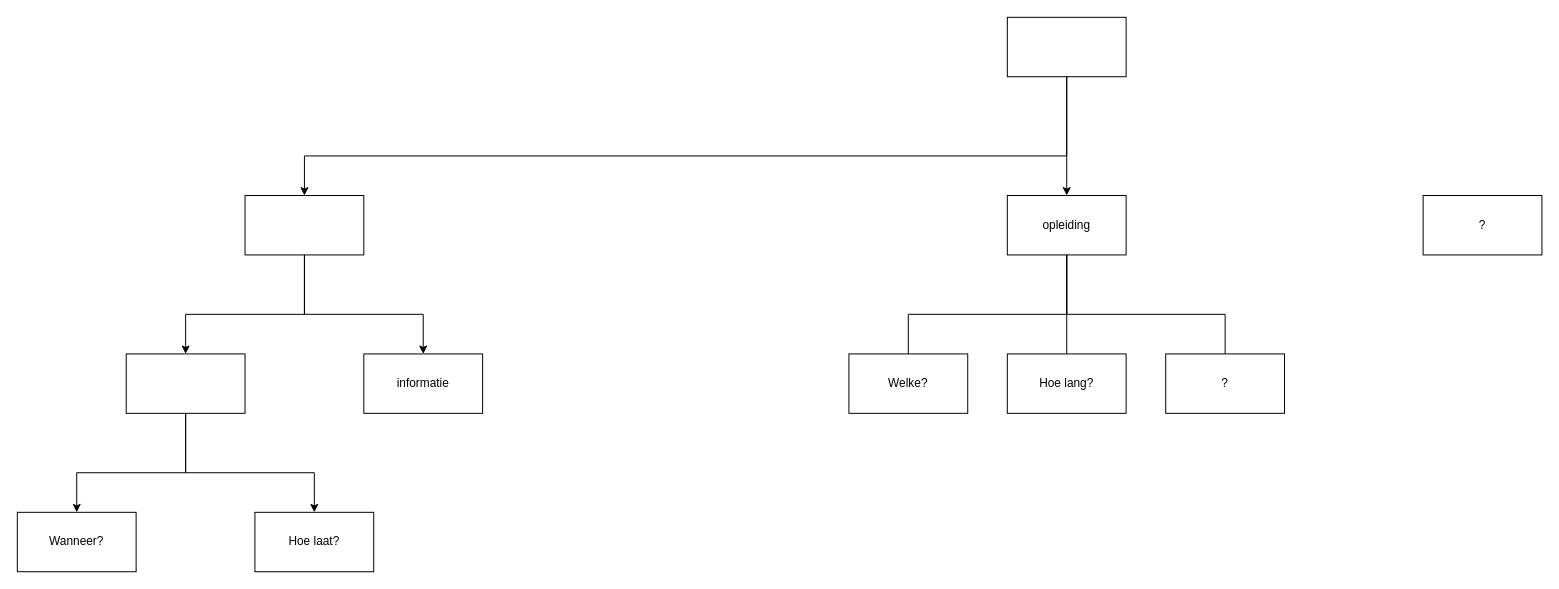
Some shapes in this 1559 by 589 pixel diagram are drawn without their labels. The shapes that lost their labels are listed below. From the top down, each one's box as (x1, y1, x2, y2) in pixels, then its label:
(1006, 16, 1126, 77): Welkom-vraag
(244, 195, 364, 255): opendag
(125, 353, 245, 413): datum
